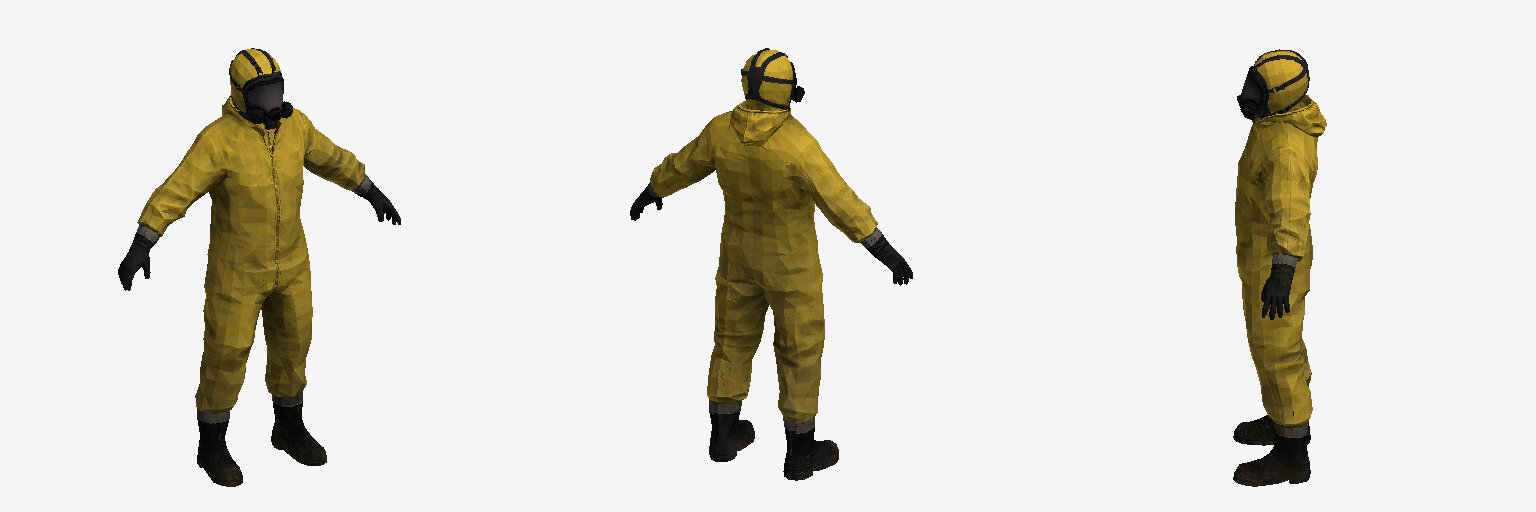
3 views of the same model, side by side, from view 1: azimuth 30°, elevation 25°; view 2: azimuth 150°, elevation 25°; view 3: azimuth 270°, elevation 25° (orthographic).
Parts seen in each view (by area): view 1: 4_+hood_up.hood_up_0.05_0_0, 4_-hood_down.hood_down_0.05_0_0, 4_+gasmask_hood_up.gasmask_hood_up_0.06_0_0; view 2: 4_+hood_up.hood_up_0.05_0_0, 4_-hood_down.hood_down_0.05_0_0, 4_+gasmask_hood_up.gasmask_hood_up_0.06_0_0; view 3: 4_+hood_up.hood_up_0.05_0_0, 4_-hood_down.hood_down_0.05_0_0, 4_+gasmask_hood_up.gasmask_hood_up_0.06_0_0.
Part boxes in pixels (x1,y1,x2,y2): 4_+hood_up.hood_up_0.05_0_0: (118,49,400,486); 4_-hood_down.hood_down_0.05_0_0: (118,95,400,485); 4_+gasmask_hood_up.gasmask_hood_up_0.06_0_0: (229,48,283,129); 4_+hood_up.hood_up_0.05_0_0: (630,50,912,476); 4_-hood_down.hood_down_0.05_0_0: (630,101,912,480); 4_+gasmask_hood_up.gasmask_hood_up_0.06_0_0: (741,48,796,110); 4_+hood_up.hood_up_0.05_0_0: (1233,51,1317,486); 4_-hood_down.hood_down_0.05_0_0: (1238,94,1326,486); 4_+gasmask_hood_up.gasmask_hood_up_0.06_0_0: (1240,49,1309,119).
Size of the model in its own units: 1.1 by 1.57 by 0.3267.
Materials: 6 (5 with a texture image).